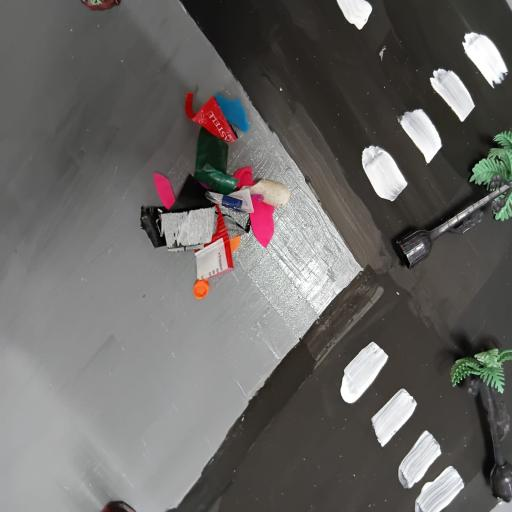fallen trees: (396, 123, 512, 281), (448, 345, 512, 512)
trash: (181, 75, 252, 146), (140, 204, 223, 247), (193, 123, 239, 193), (194, 240, 238, 299), (228, 194, 281, 240), (150, 171, 180, 211)
